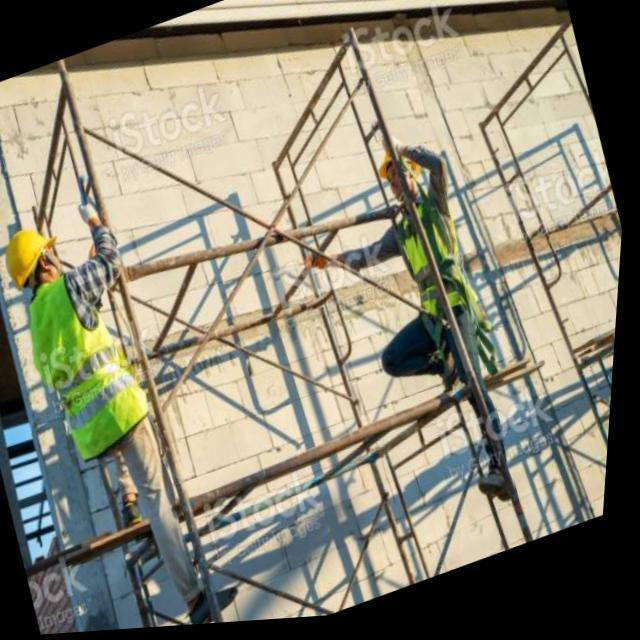belt: (374, 185, 513, 389)
